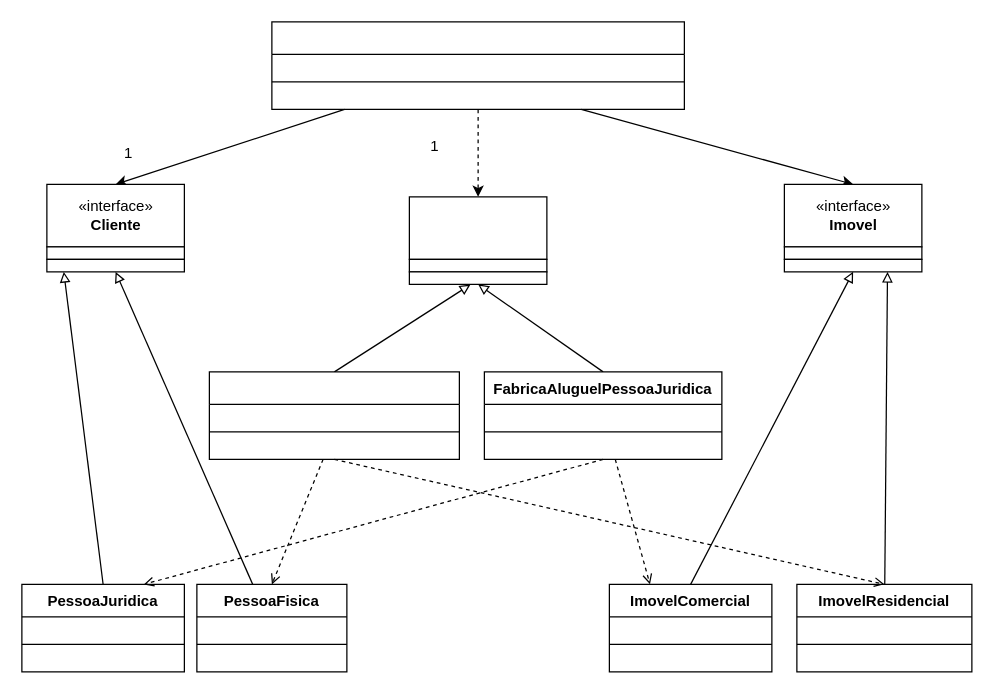
The diagram is 994 pixels wide and 694 high, and some of its shapes have lost their labels. Each missing label, with the box of its shape:
Aluguel: (271, 21, 684, 109)
FabricaAluguelPessoaFisica: (208, 371, 459, 459)
«interface» FabricaAbstrata: (408, 196, 547, 259)
